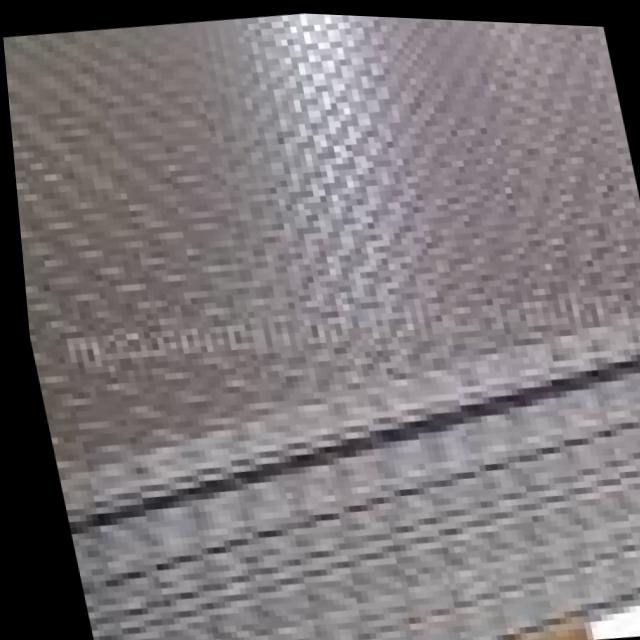metal-plates: (4, 11, 640, 640)
